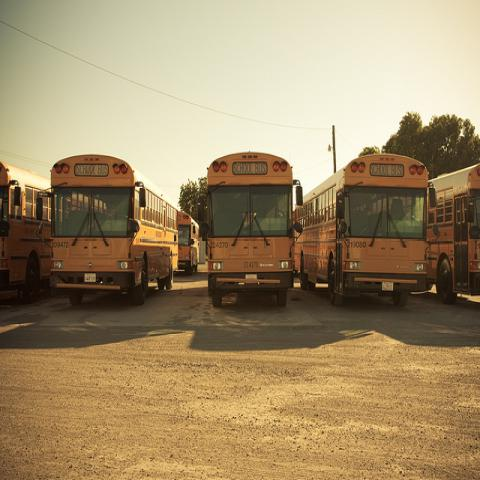bus: (296, 150, 431, 314), (50, 154, 179, 304), (206, 152, 304, 308), (2, 164, 52, 307), (430, 166, 480, 305), (177, 211, 199, 274)
